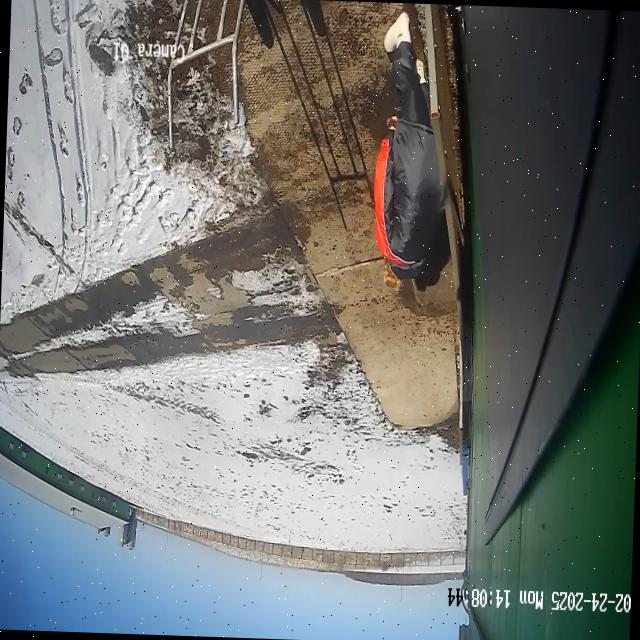Red uniform: (368, 9, 458, 288)
